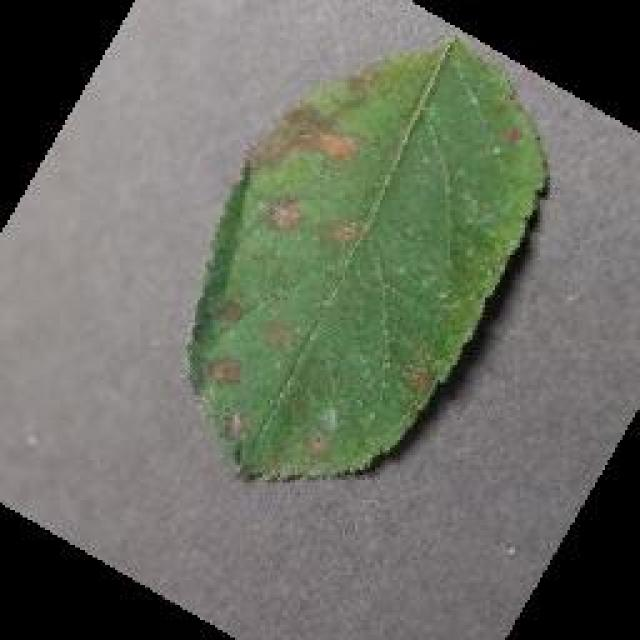apple scab disease: (182, 32, 550, 482)
